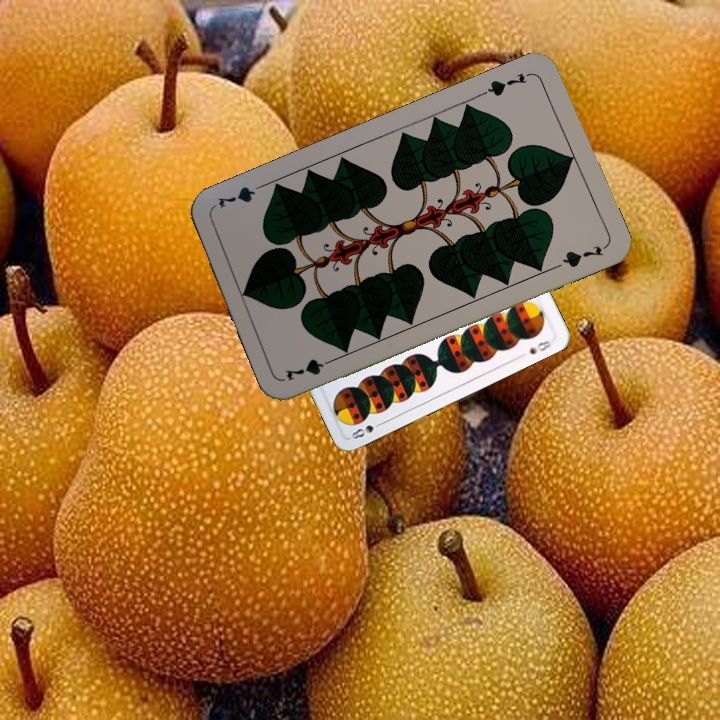G7: (281, 353, 340, 384), (478, 68, 535, 99)
S8: (347, 418, 386, 442)
